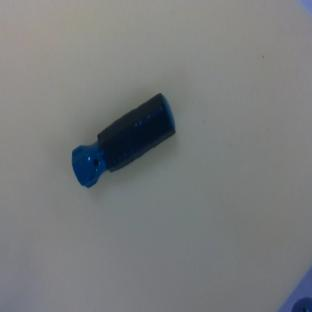part_2_bad: (62, 91, 185, 192)
